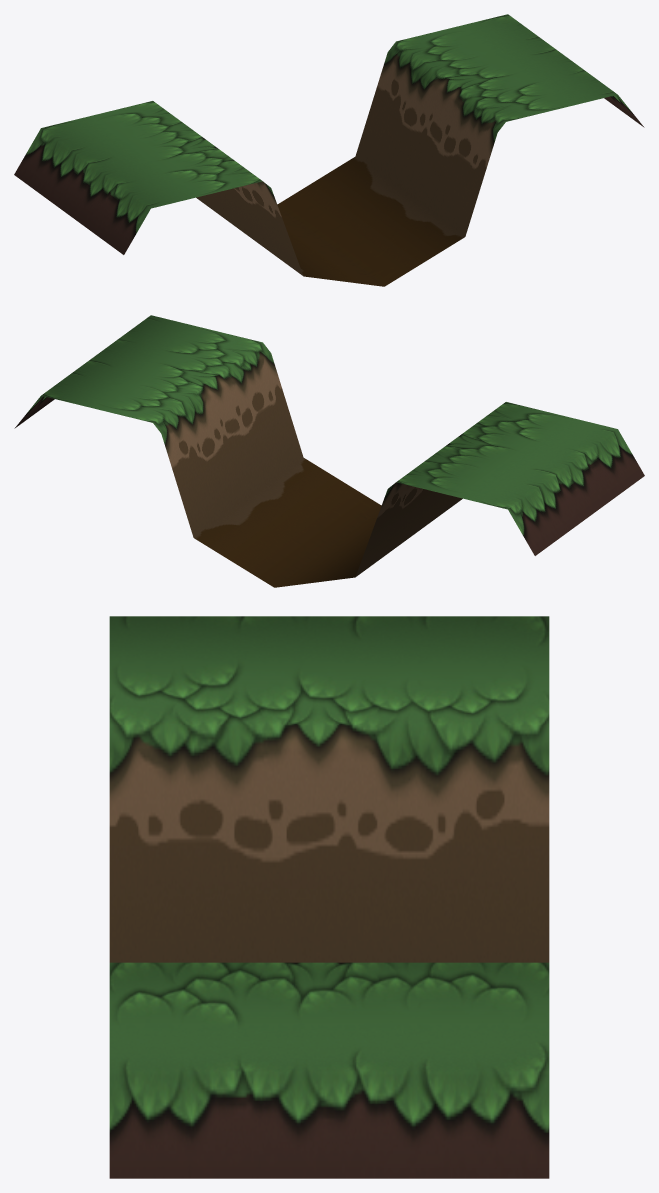
The model's file is Canal_Soil_02.FBX.
The picture shows the model from 3 angles, top to bottom: view 1: azimuth 30°, elevation 25°; view 2: azimuth 150°, elevation 25°; view 3: azimuth 270°, elevation 25°; orthographic projection. The views are drawn at different scales.
Parts seen in each view (by area): view 1: Canal_Soil_02; view 2: Canal_Soil_02; view 3: Canal_Soil_02.
Boxes of the visible parts, x1=… form: Canal_Soil_02: x1=14, y1=14, x2=644, y2=286; Canal_Soil_02: x1=14, y1=315, x2=644, y2=587; Canal_Soil_02: x1=109, y1=616, x2=549, y2=1178.
Bounding box in the file's own units: 224 × 55.5 × 81.83.
